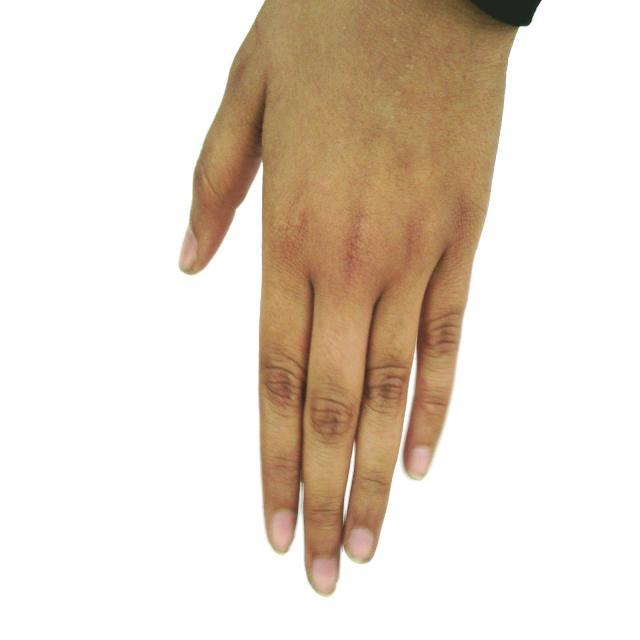Fingernail: (311, 558, 337, 595), (346, 529, 374, 562), (271, 512, 293, 553), (407, 448, 431, 480), (180, 230, 196, 272)
